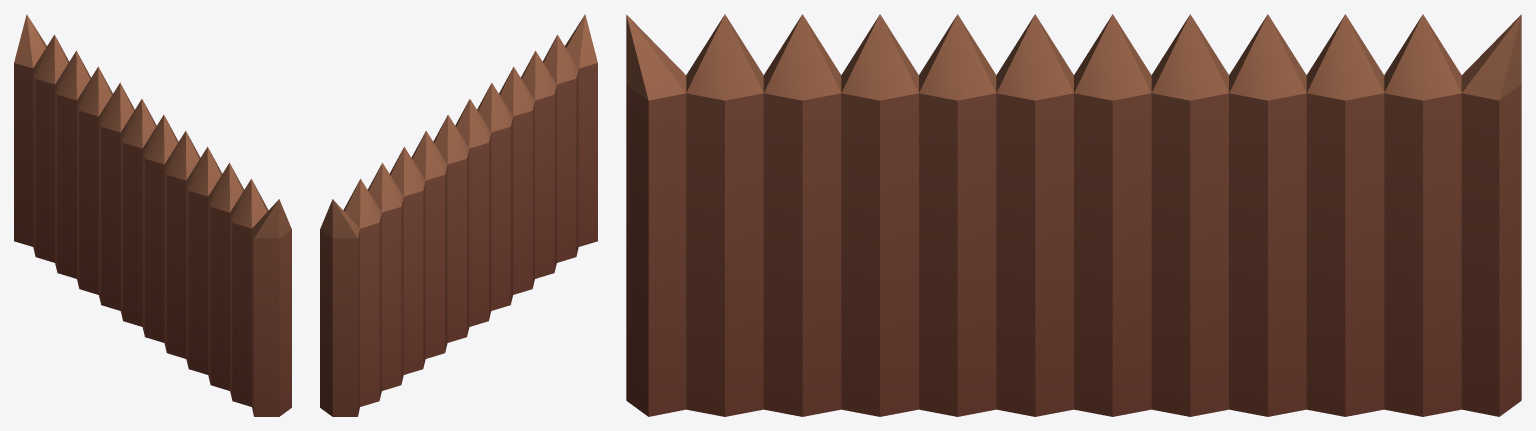
File: fence.glb
The picture shows the model from 3 angles, left to right: view 1: azimuth 30°, elevation 25°; view 2: azimuth 150°, elevation 25°; view 3: azimuth 270°, elevation 25°; orthographic projection. The views are drawn at different scales.
Parts seen in each view (by area): view 1: fence_wood_straight; view 2: fence_wood_straight; view 3: fence_wood_straight.
Part boxes in pixels (<box>): fence_wood_straight: <box>14,14,291,416</box>; fence_wood_straight: <box>320,14,597,416</box>; fence_wood_straight: <box>626,14,1521,416</box>.
Bounding box in the file's own units: 0.1 × 0.55 × 1.15.
